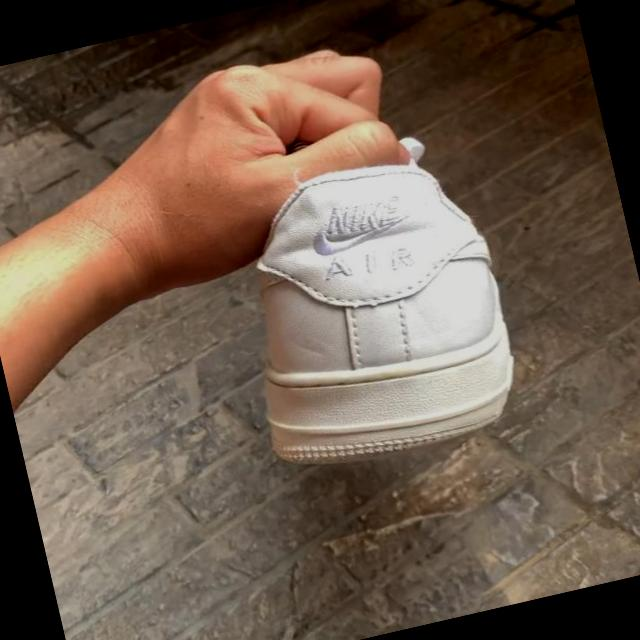nike_fake_airforce: (197, 79, 538, 476)
